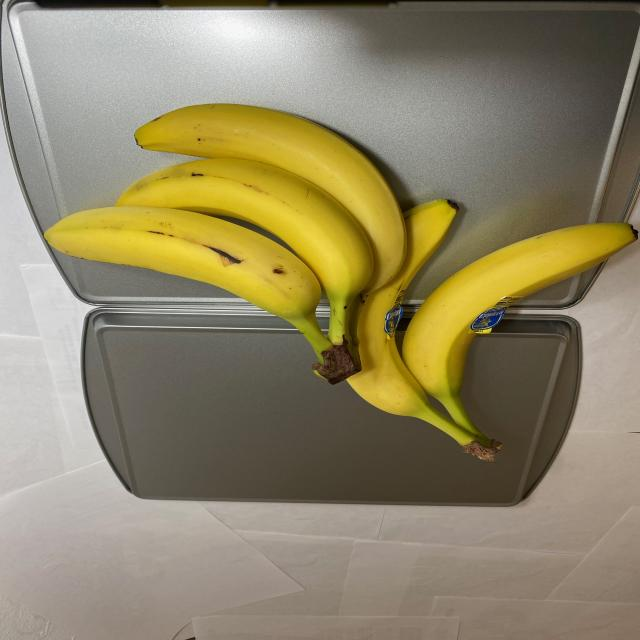banana: (44, 101, 635, 463)
